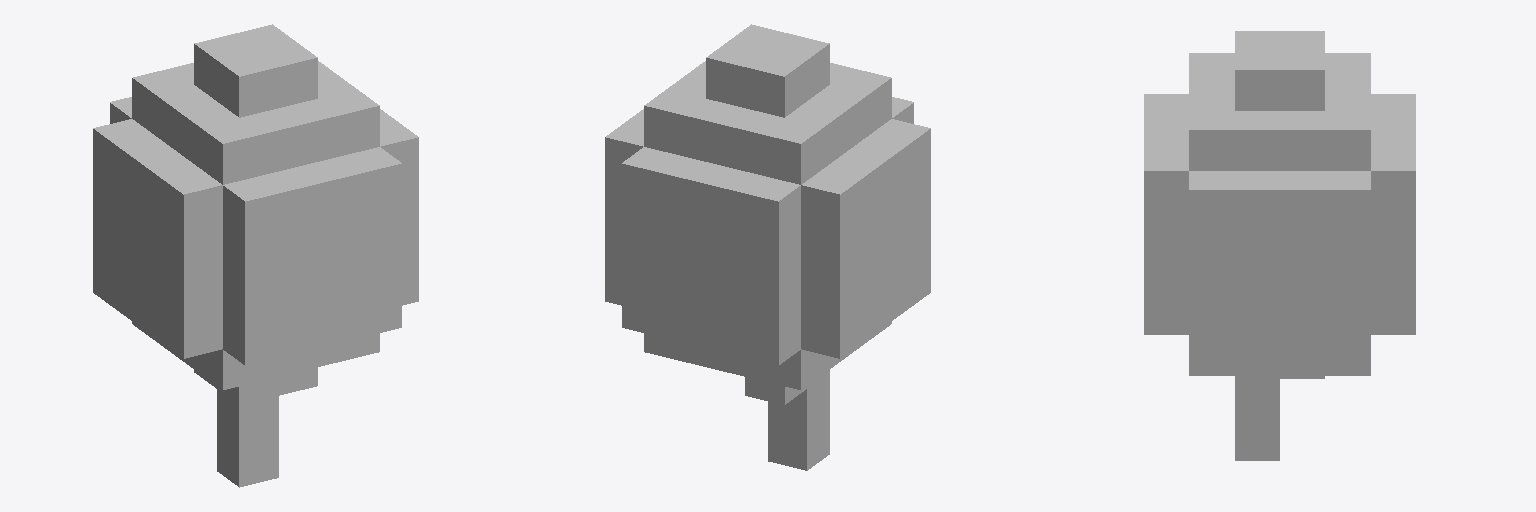
The model's file is Bush_Small_Snow.obj.
3 views of the same model, side by side, from view 1: azimuth 30°, elevation 25°; view 2: azimuth 150°, elevation 25°; view 3: azimuth 270°, elevation 25° (orthographic).
Parts seen in each view (by area): view 1: Bush_Small_Snow; view 2: Bush_Small_Snow; view 3: Bush_Small_Snow.
Part boxes in pixels (x1,y1,x2,y2): Bush_Small_Snow: (93, 24, 418, 487); Bush_Small_Snow: (605, 24, 930, 470); Bush_Small_Snow: (1144, 31, 1415, 460).
Bounding box in the file's own units: 6 × 10 × 6.